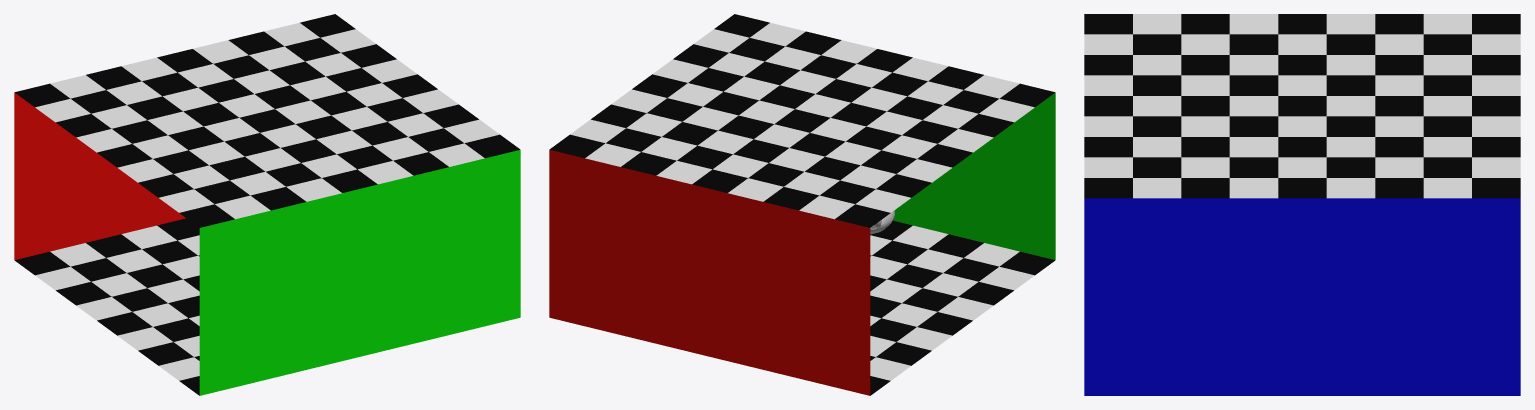
The model's file is sampleroom2.dae.
3 renders of one model, left to right at view 1: azimuth 30°, elevation 25°; view 2: azimuth 150°, elevation 25°; view 3: azimuth 270°, elevation 25°, orthographic. The views are drawn at different scales.
Parts seen in each view (by area): view 1: Plane_001, Plane02_Plane02_001, Plane, Plane02_Plane02; view 2: Plane_001, Plane02_Plane02, Plane, Plane02_Plane02_001; view 3: Plane03_Plane03, Plane_001.
Boxes of the visible parts, left/top/right/bottom form: Plane_001: left=15, top=14, right=519, bottom=227; Plane02_Plane02_001: left=199, top=149, right=520, bottom=395; Plane: left=15, top=218, right=199, bottom=395; Plane02_Plane02: left=14, top=92, right=185, bottom=260; Plane_001: left=550, top=14, right=1054, bottom=227; Plane02_Plane02: left=549, top=149, right=870, bottom=395; Plane: left=870, top=220, right=1054, bottom=395; Plane02_Plane02_001: left=893, top=92, right=1055, bottom=260; Plane03_Plane03: left=1084, top=198, right=1520, bottom=395; Plane_001: left=1084, top=14, right=1520, bottom=198.
Size of the model in its own units: 60 by 60 by 30.
